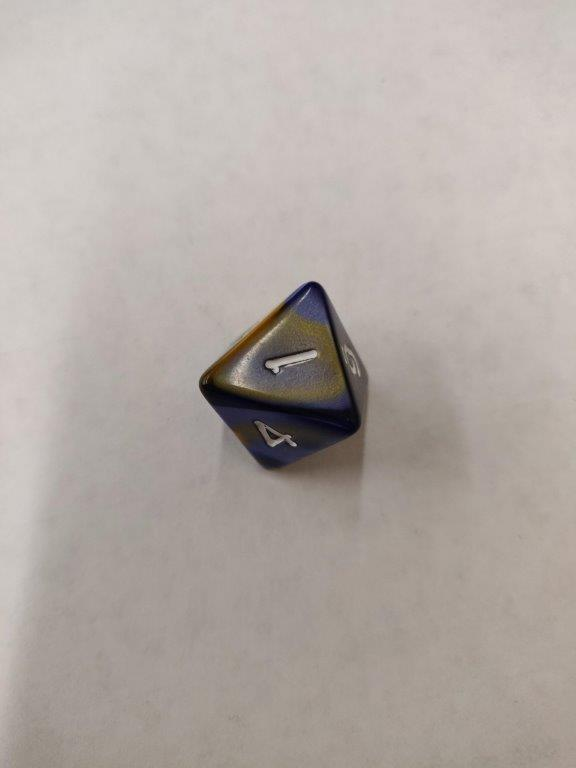d8-1: (200, 283, 370, 472)
